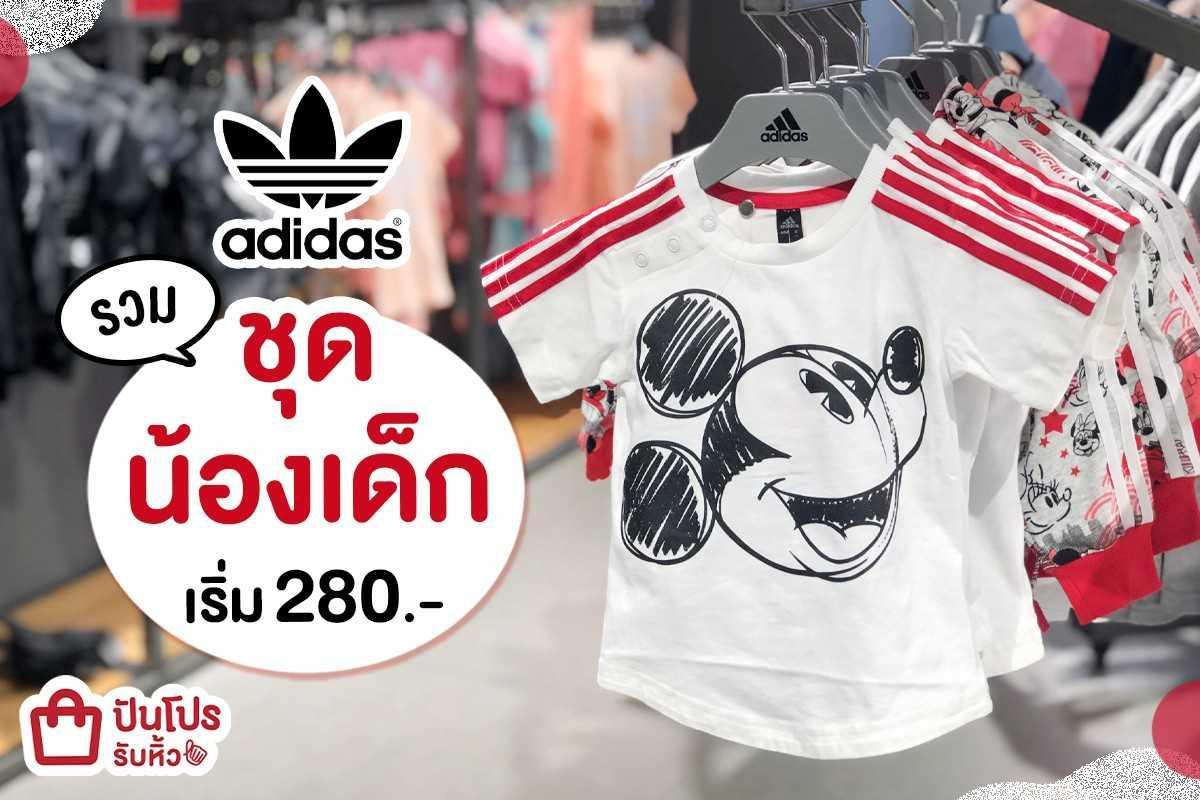Tshirt: (477, 145, 1096, 774)
